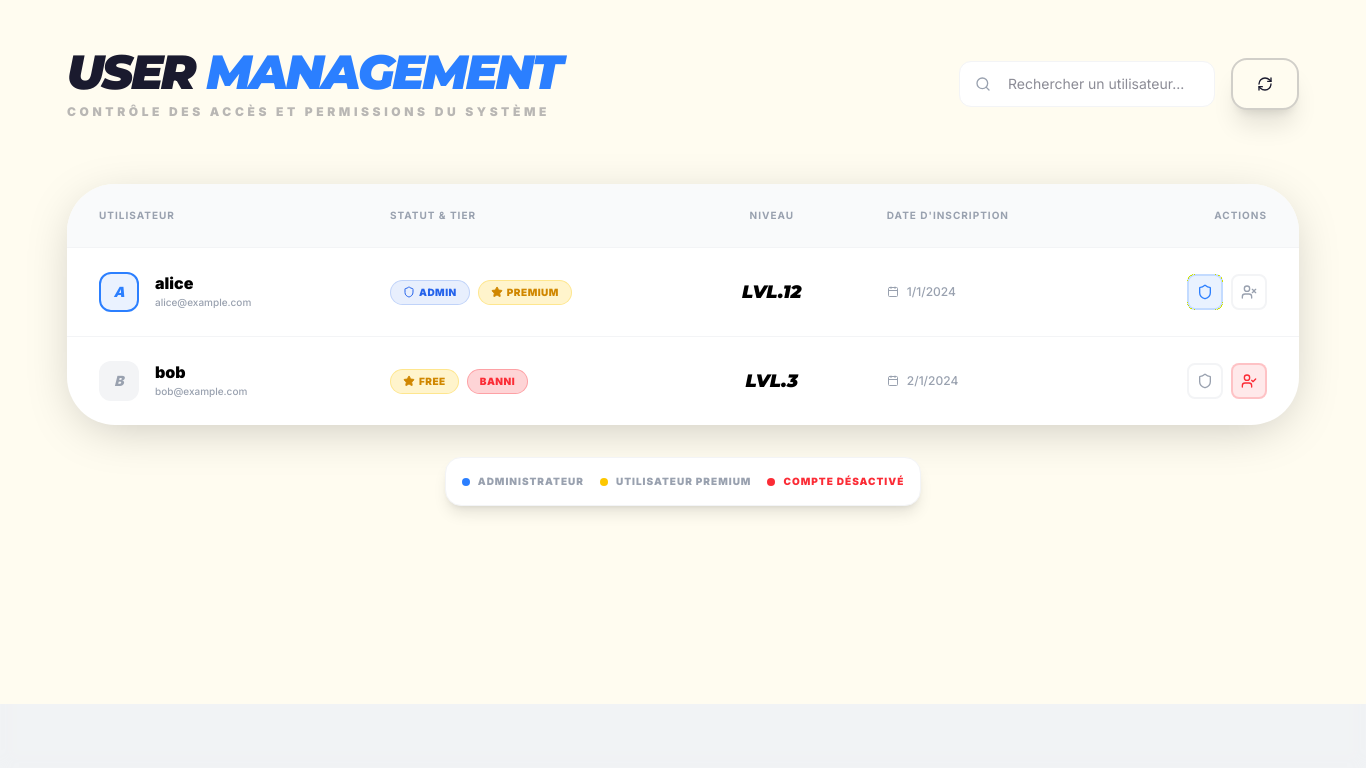
Test case: UserManagementPage › shows the empty state when no user matches the search
Expected: the text "alice" is shown, [155,272,193,292]
Type "zzz-nobody" into the field labelled "Rechercher un utilisateur" at (1087, 84), box [959,61,1215,107]
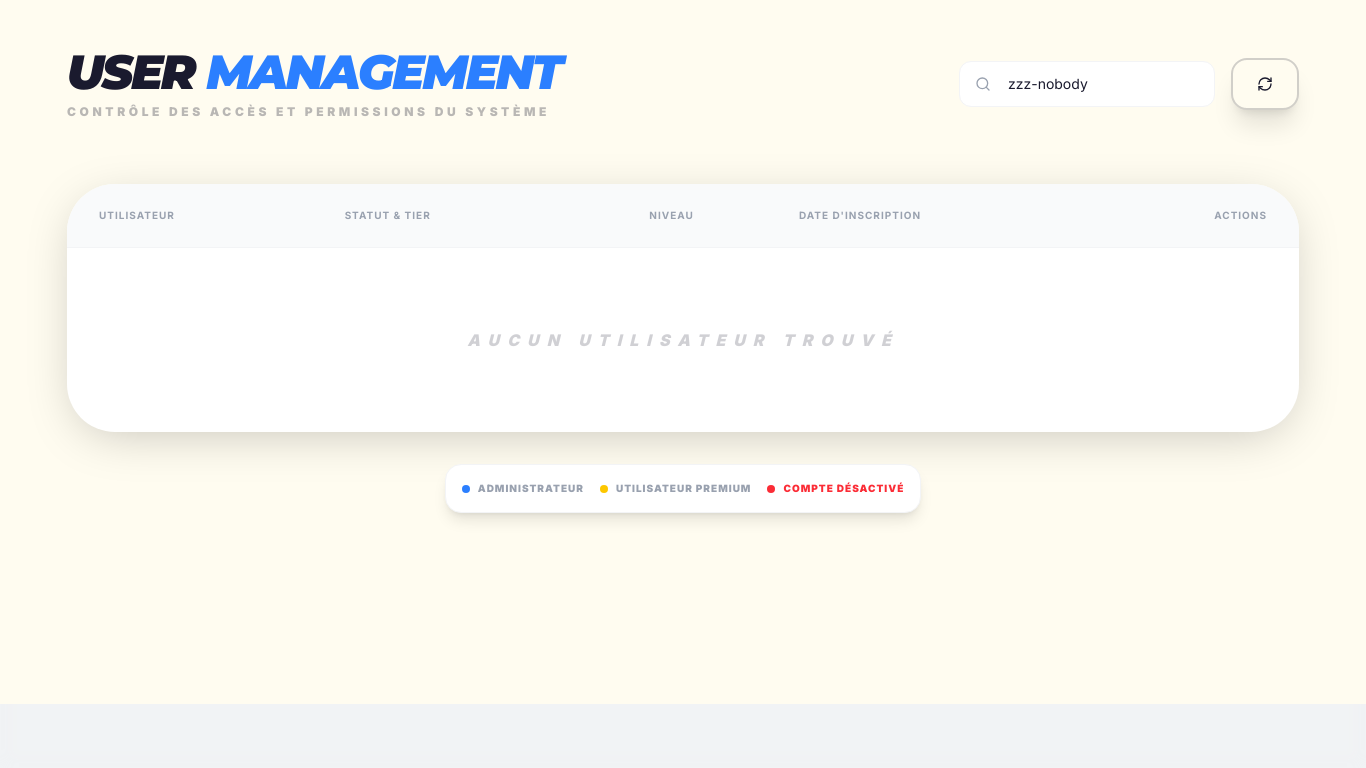
Now the text "Aucun utilisateur trouvé" is shown, box [67,248,1299,432]
